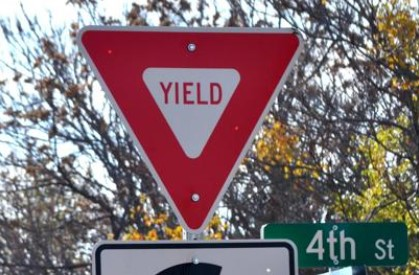Yeild: (73, 23, 309, 236)
